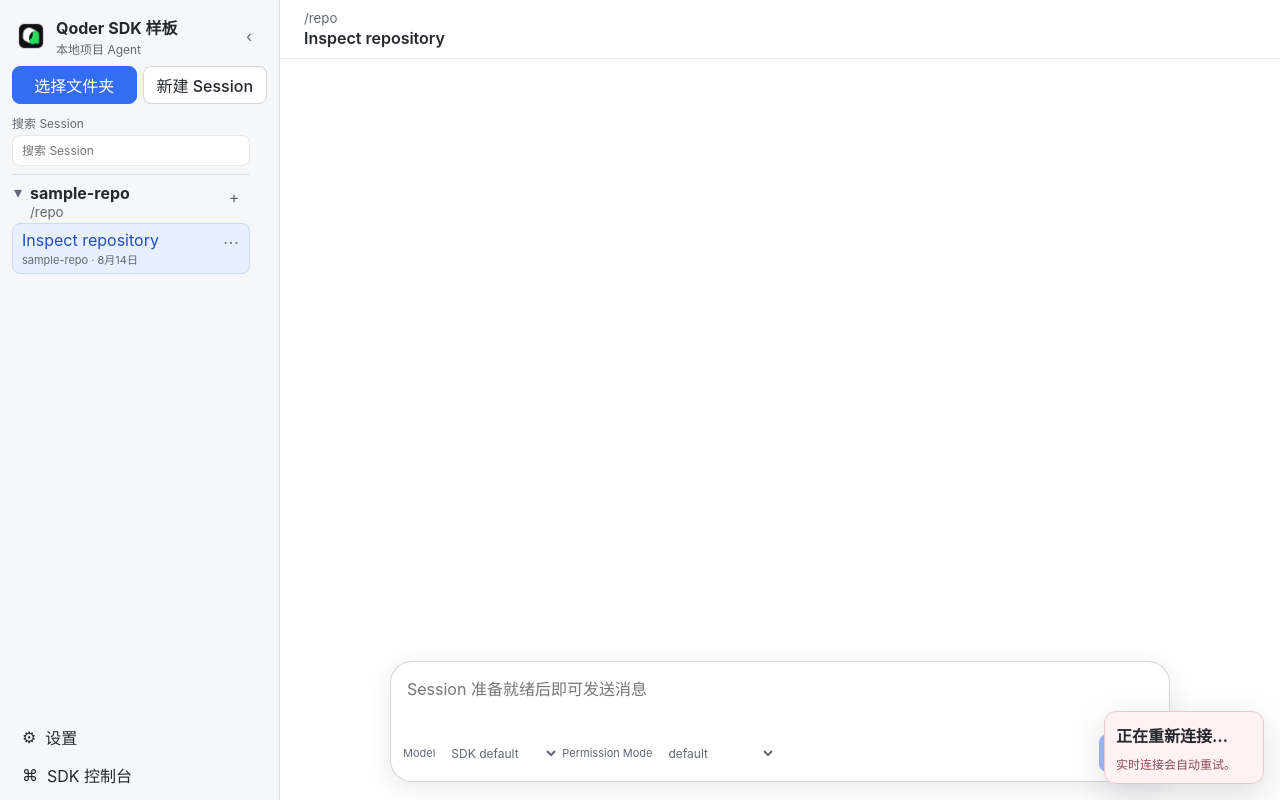
Test case: Workspace and Session shell › shows only product Session actions for a $phase Session
Step 1. Click the button named "打开 Inspect repository 的 Session 操作" → (230, 242), box 216,228 -> 244,256
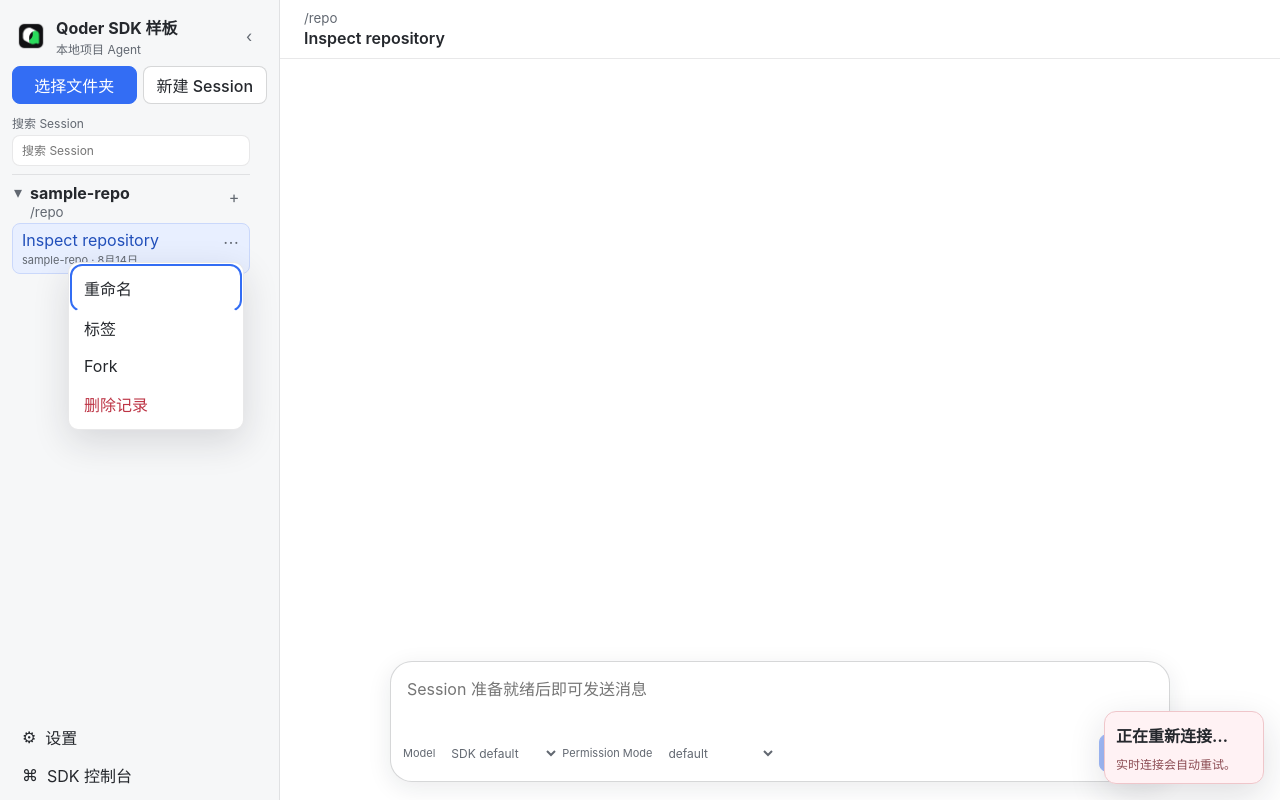
Expected: the menu items read "重命名", "标签", "Fork", "删除记录", in this order, 74,268 -> 238,308; 74,308 -> 238,348; 74,348 -> 238,384; 74,384 -> 238,424
